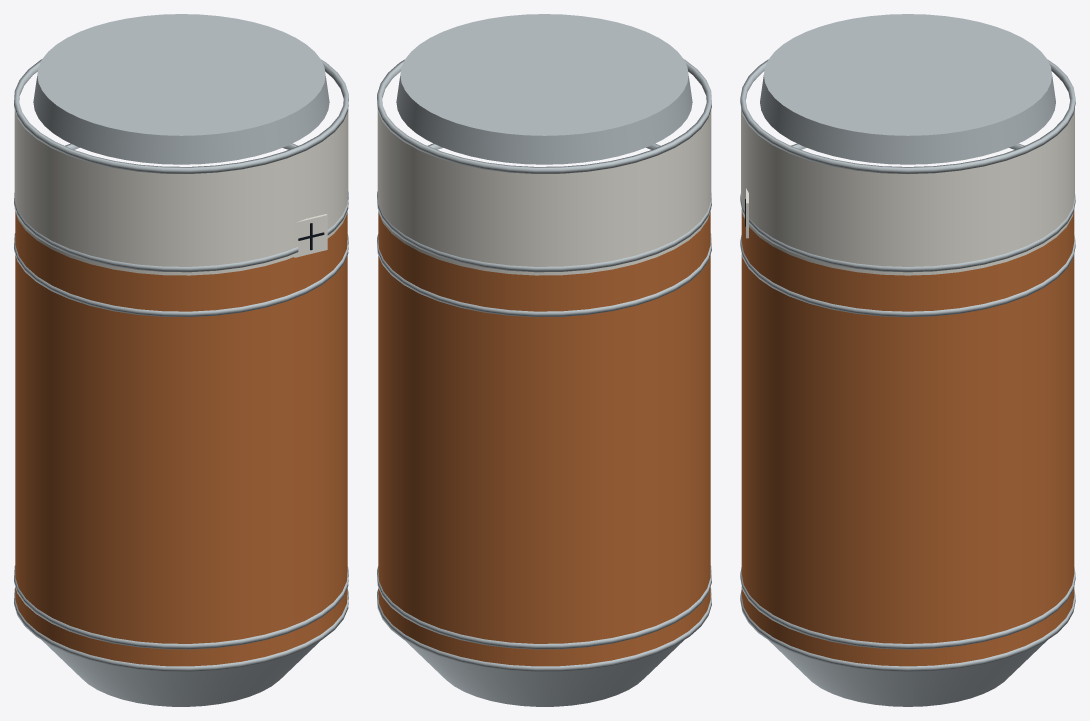
File: icps_tank_section.glb
The picture shows the model from 3 angles, left to right: view 1: azimuth 30°, elevation 25°; view 2: azimuth 150°, elevation 25°; view 3: azimuth 270°, elevation 25°; orthographic projection.
Parts seen in each view (by area): view 1: icpsmesh_Spray-on_insulation, icpsmesh_Satin_aluminum, icpsmesh_Warm_white_enamel, icpsproximity_targetmesh_Warm_white_enamel; view 2: icpsmesh_Spray-on_insulation, icpsmesh_Satin_aluminum, icpsmesh_Warm_white_enamel; view 3: icpsmesh_Spray-on_insulation, icpsmesh_Satin_aluminum, icpsmesh_Warm_white_enamel.
Part boxes in pixels (x1,y1,x2,y2): icpsmesh_Spray-on_insulation: [15, 211, 347, 666]; icpsmesh_Satin_aluminum: [14, 14, 348, 706]; icpsmesh_Warm_white_enamel: [14, 110, 348, 275]; icpsproximity_targetmesh_Warm_white_enamel: [294, 214, 327, 257]; icpsmesh_Spray-on_insulation: [378, 211, 710, 666]; icpsmesh_Satin_aluminum: [377, 14, 711, 706]; icpsmesh_Warm_white_enamel: [377, 110, 711, 275]; icpsmesh_Spray-on_insulation: [741, 210, 1074, 666]; icpsmesh_Satin_aluminum: [740, 14, 1075, 706]; icpsmesh_Warm_white_enamel: [741, 108, 1074, 275].
Bounding box in the file's own units: 5.14 × 9.92 × 5.14.
